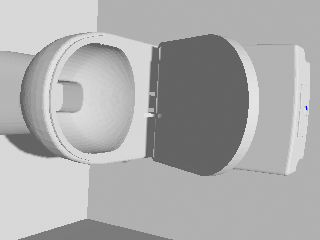lid_1: (152, 34, 258, 175)
